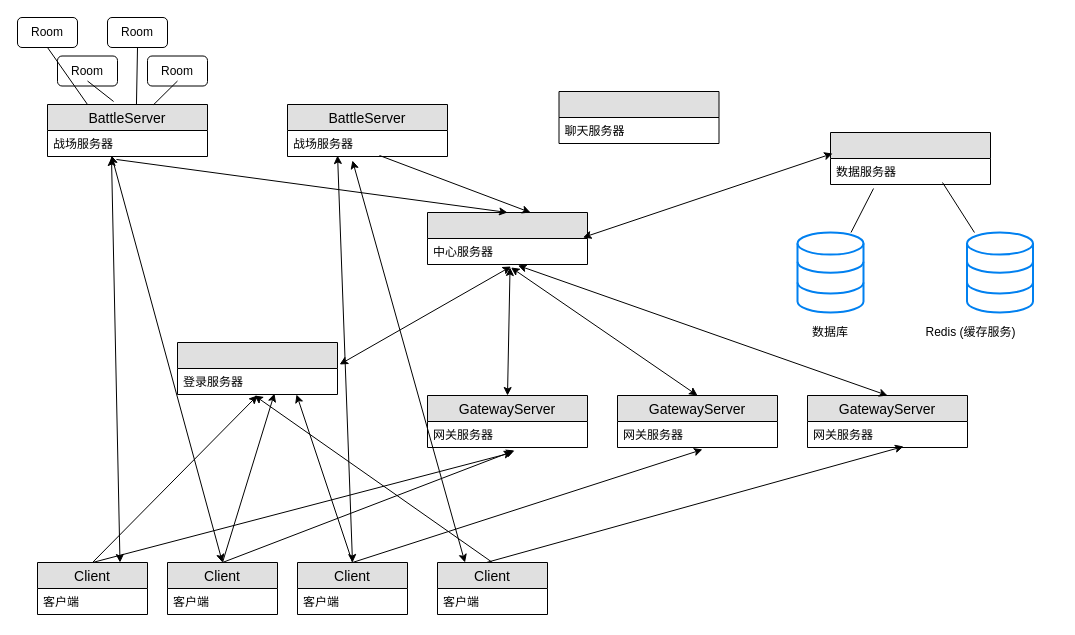
Image size: 1075x635. Some labels were removed from this diagram. The shapes that lost their labels are listed below. From the top down, each one's box as (x1, y1, x2, y2) in pixels, then its label:
(558, 90, 719, 144): ChatServer
(830, 132, 990, 184): DataBaseServer
(426, 212, 588, 264): CenterServer
(176, 342, 338, 394): LoginServer
